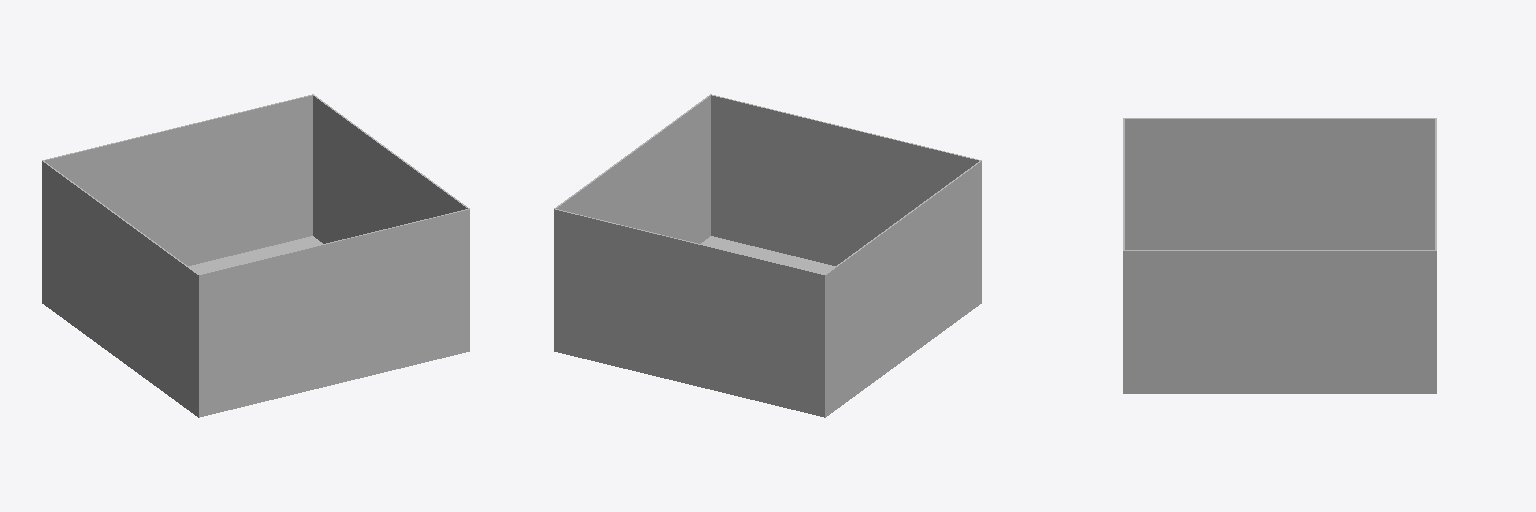
File: Suelo2.obj
The picture shows the model from 3 angles: view 1: azimuth 30°, elevation 25°; view 2: azimuth 150°, elevation 25°; view 3: azimuth 270°, elevation 25°; orthographic projection.
Visible parts, largest first — view 1: object 1; view 2: object 1; view 3: object 1.
Boxes of the visible parts, x1=… form: object 1: x1=42, y1=94, x2=469, y2=417; object 1: x1=554, y1=94, x2=981, y2=417; object 1: x1=1123, y1=118, x2=1436, y2=393.
Bounding box in the file's own units: 17.6 × 8.8 × 17.6.